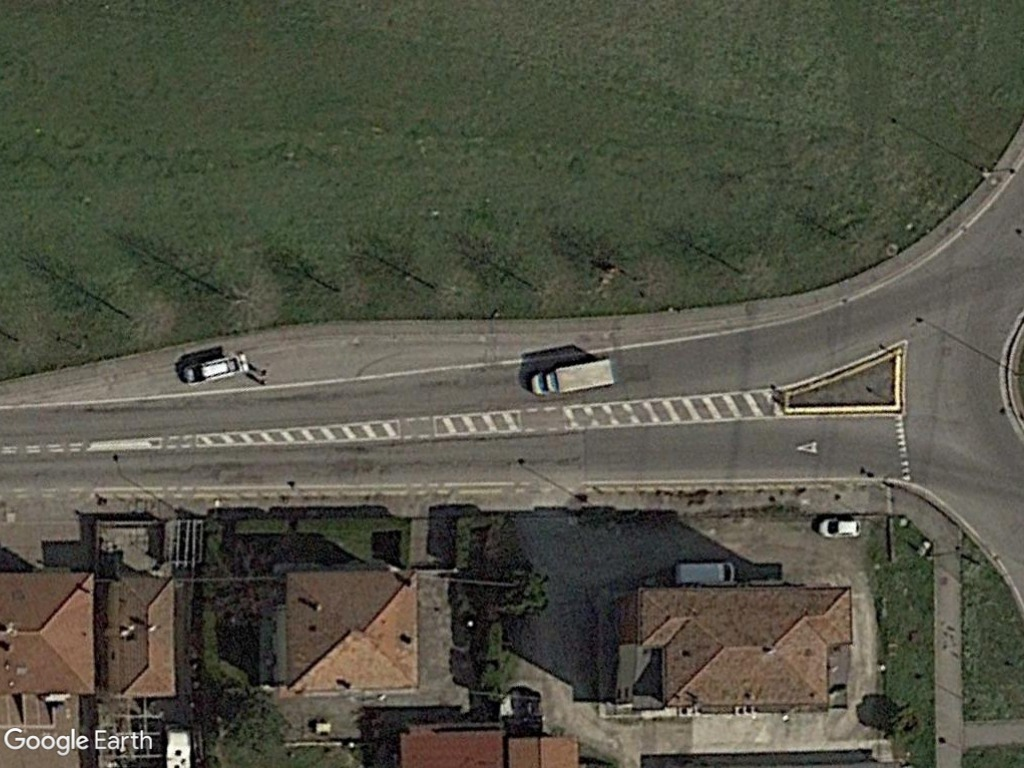car: (812, 514, 869, 543)
other: (178, 347, 251, 390)
truck: (527, 355, 620, 403)
van: (671, 557, 741, 590)
